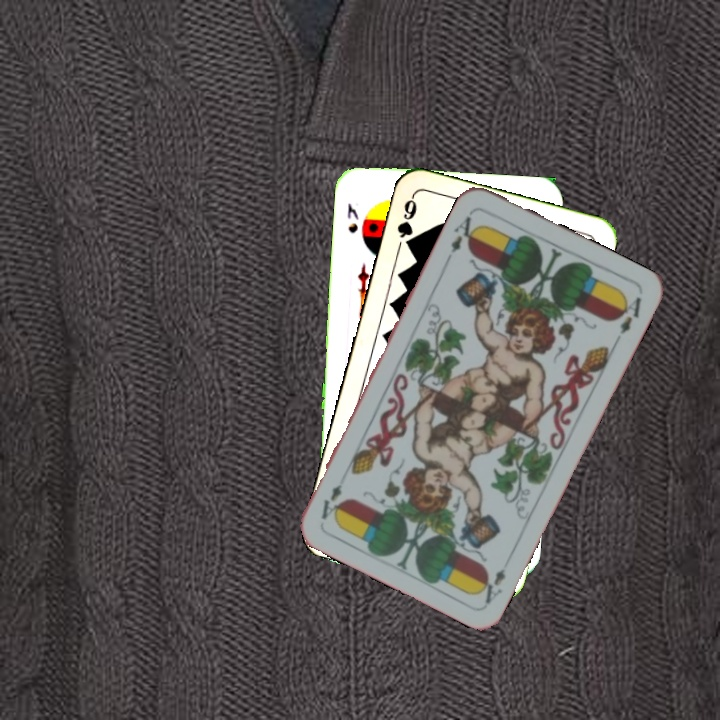EA: (443, 207, 482, 263), (474, 564, 509, 607)
G9: (393, 192, 420, 253)
SK: (343, 198, 361, 236)
